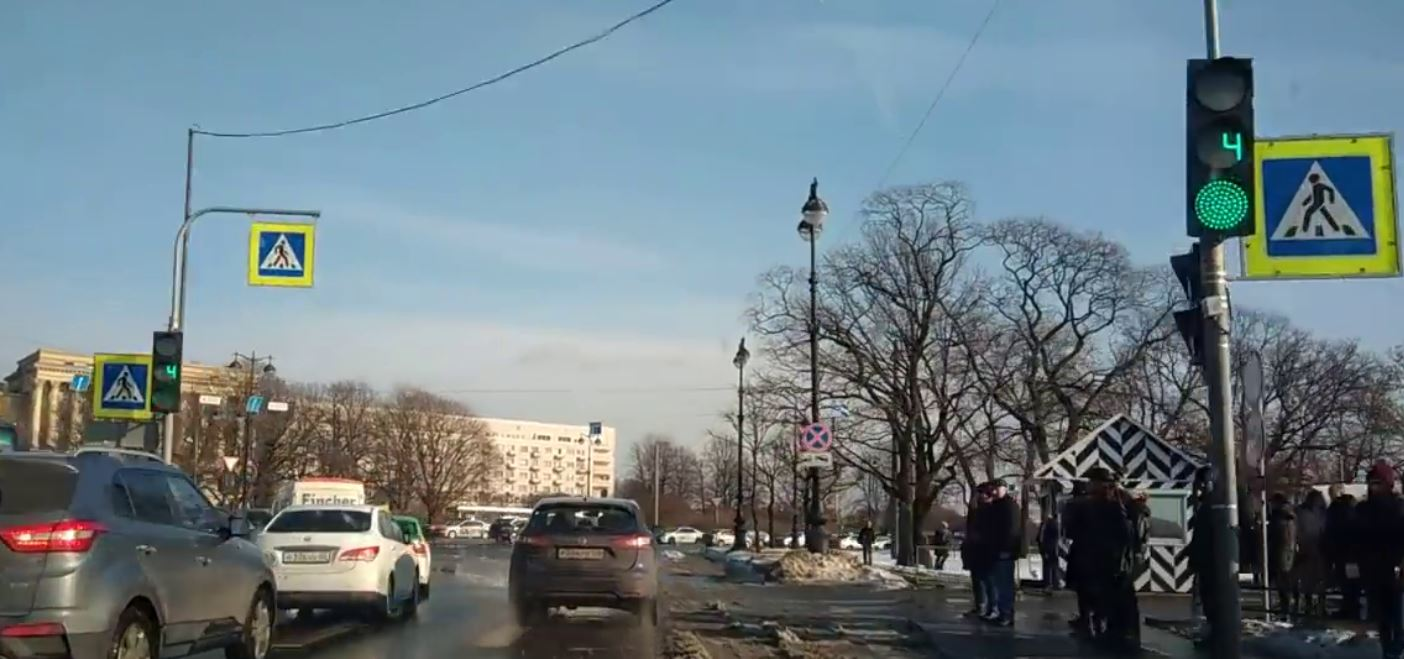Yaya Gecidi: (1272, 150, 1375, 268), (257, 235, 300, 280), (106, 362, 142, 406)
